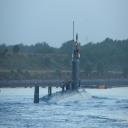submarine: (32, 21, 92, 106)
